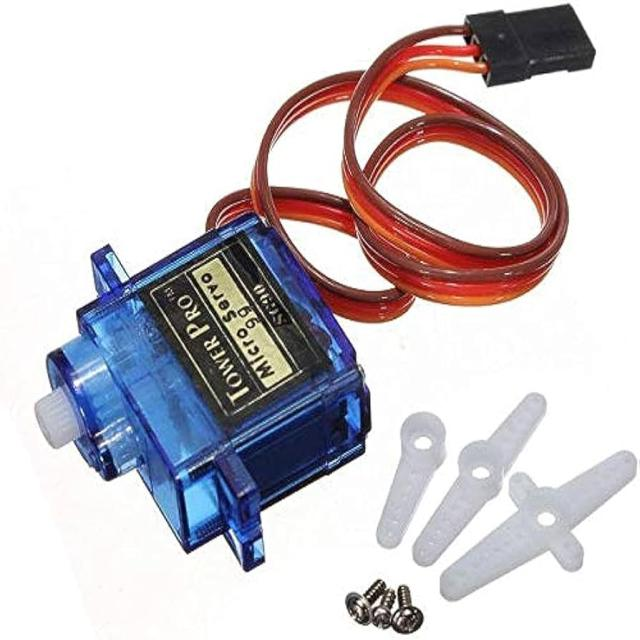motor: (15, 198, 383, 562)
